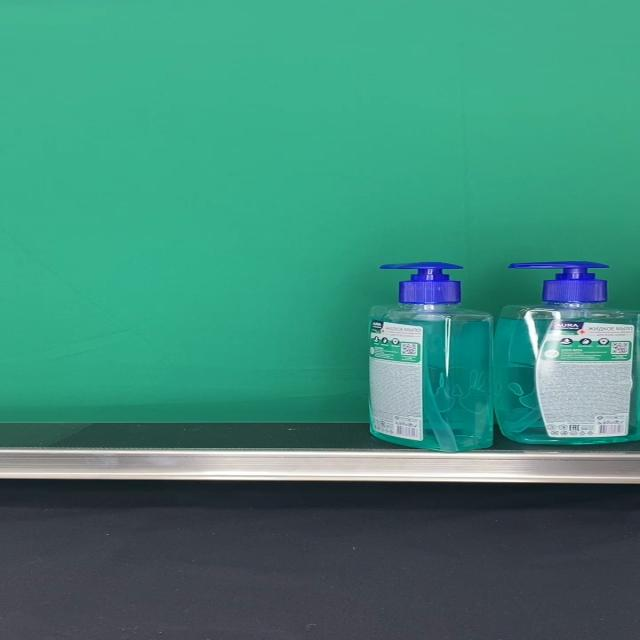Bottle: (492, 261, 640, 445), (367, 262, 492, 452)
Cap: (510, 262, 610, 304), (381, 262, 463, 303)
